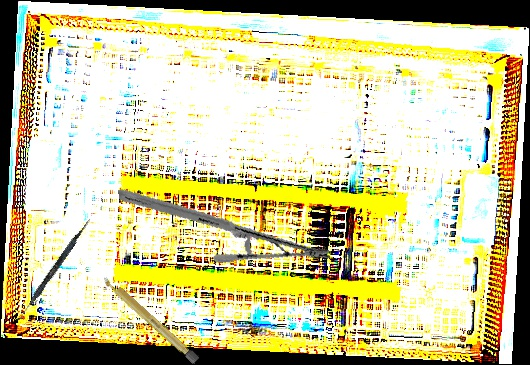Needle Holder: (117, 146, 331, 303)
Scalpel Handle: (100, 273, 201, 365)
Spatula Surgical: (15, 216, 92, 325)
